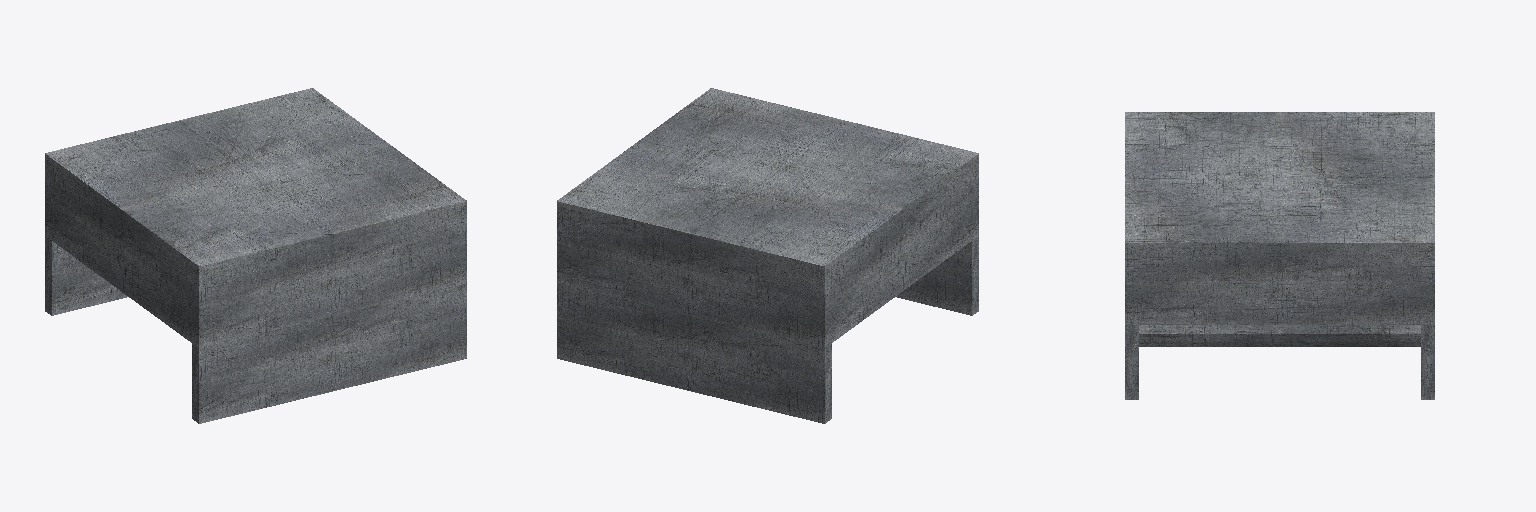
3 renders of one model, left to right at view 1: azimuth 30°, elevation 25°; view 2: azimuth 150°, elevation 25°; view 3: azimuth 270°, elevation 25°, orthographic.
Visible parts, largest first — view 1: winde_ID9.003; view 2: winde_ID9.003; view 3: winde_ID9.003.
Boxes of the visible parts, box(x1,y1,x2,y2) form: winde_ID9.003: box(45, 88, 466, 423); winde_ID9.003: box(557, 88, 978, 423); winde_ID9.003: box(1125, 112, 1434, 399).
Size of the model in its own units: 0.06 by 0.0337 by 0.06.
1 materials, 1 textured.